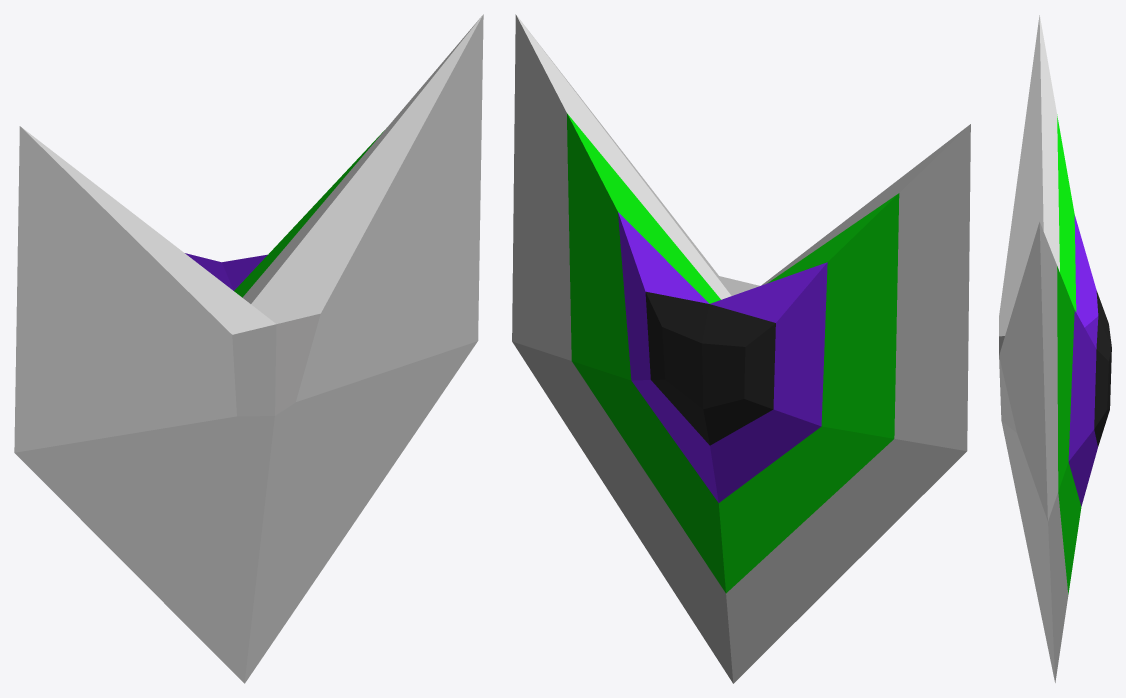
Rendered from ZigZagEnemy 2.fbx.
3 renders of one model, left to right at view 1: azimuth 30°, elevation 25°; view 2: azimuth 150°, elevation 25°; view 3: azimuth 270°, elevation 25°, orthographic. The views are drawn at different scales.
Parts seen in each view (by area): view 1: Cube; view 2: Cube; view 3: Cube.
Boxes of the visible parts, bbox=[...] form: Cube: bbox=[14, 14, 483, 683]; Cube: bbox=[512, 14, 970, 683]; Cube: bbox=[999, 15, 1111, 682].
Bounding box in the file's own units: 1049 × 1341 × 242.
